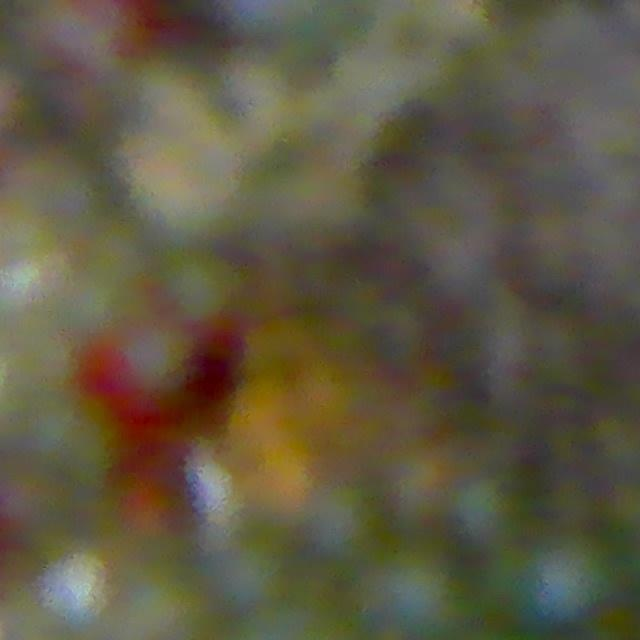SeaGrape: (515, 532, 612, 626), (369, 546, 459, 640), (38, 546, 115, 631), (303, 479, 380, 559), (120, 319, 196, 400), (214, 532, 291, 611), (164, 250, 240, 324), (448, 472, 520, 546)
